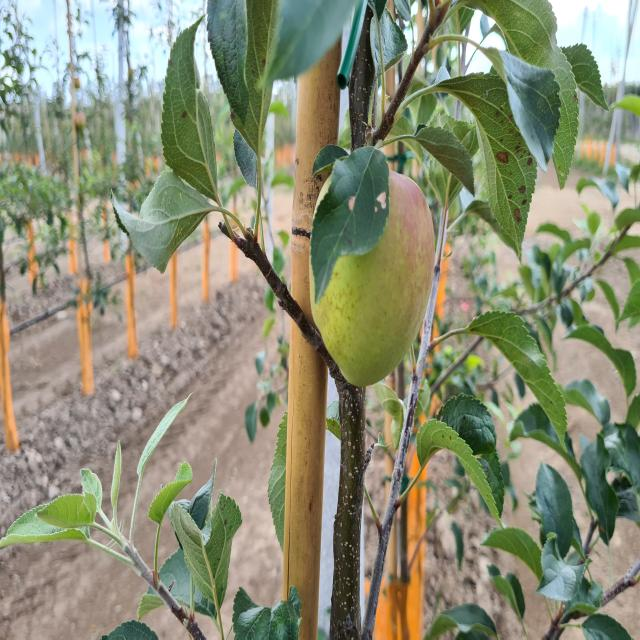Apple: (310, 147, 435, 387)
